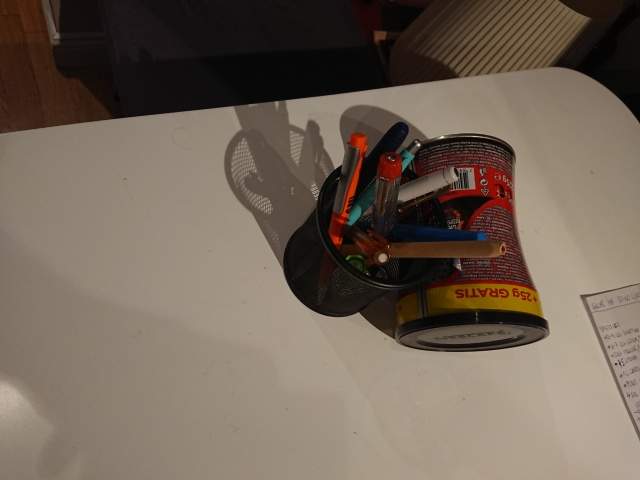Nescafe Classic 225g: (382, 131, 552, 355)
